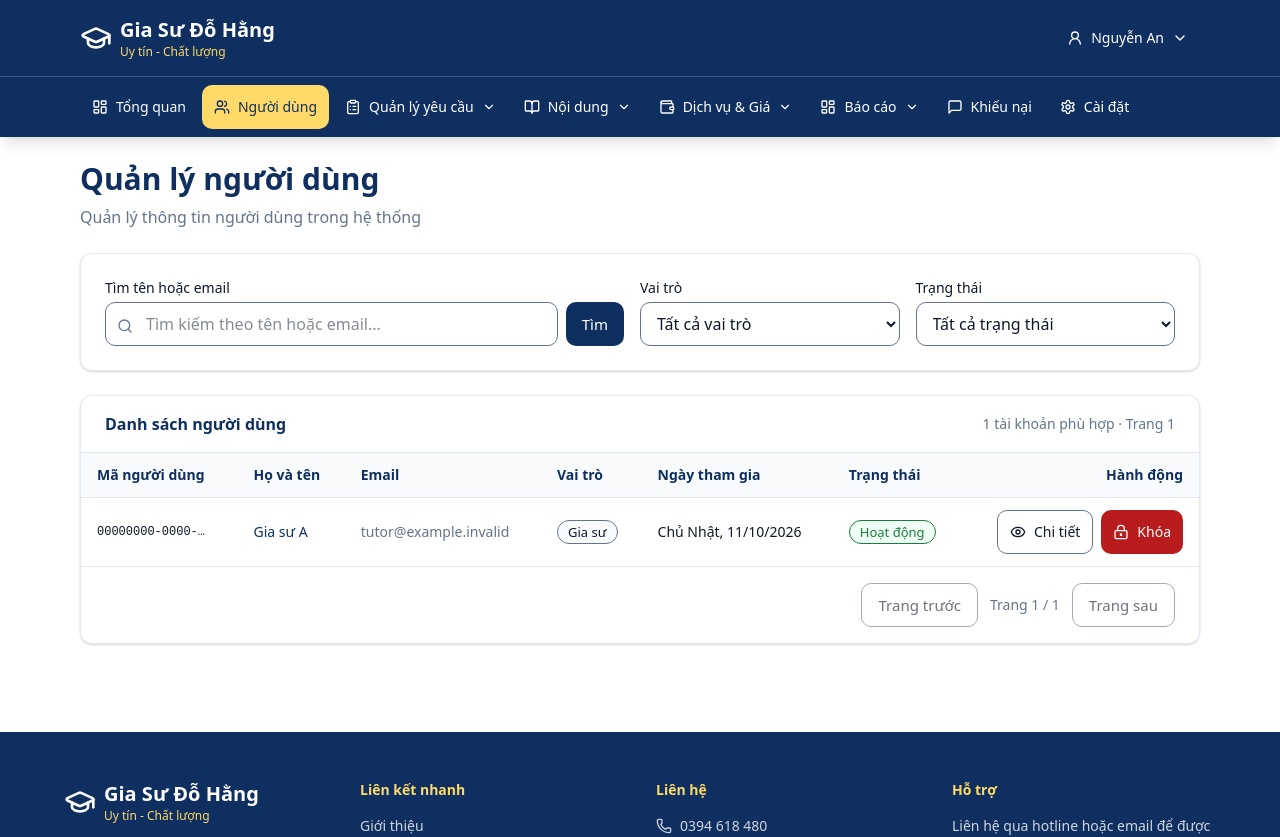
Test case: moderator user list › closes account details when the moderator changes the list filter
The image size is (1280, 837).
Expected: the text "Gia sư A" is shown, [238,498,345,566]
Step 1. Click the button "Chi tiết" → {"x": 1045, "y": 532}, box [997,510,1093,554]
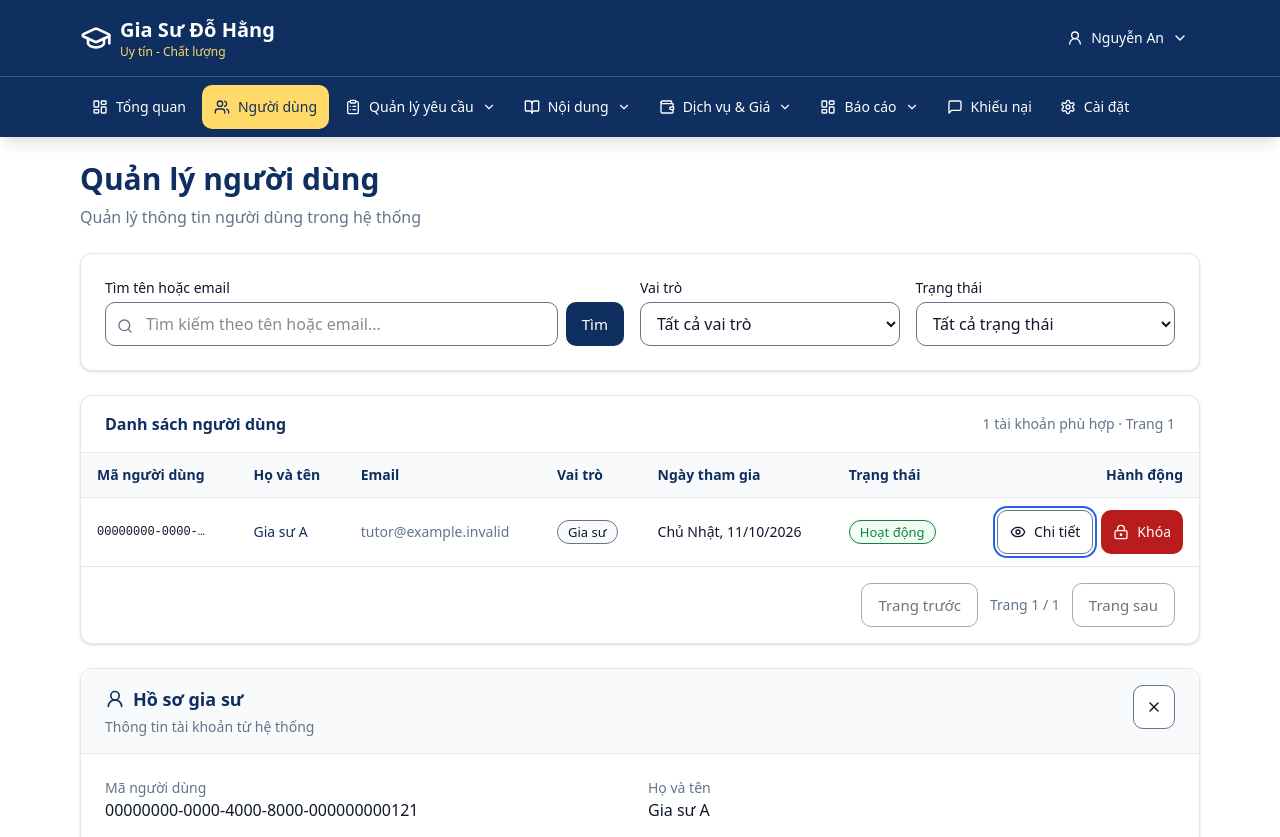
Now the heading "Hồ sơ gia sư" is shown, box [105,687,244,711]
Step 2. Select "Người học" in the dropdown labelled "Vai trò" → {"x": 770, "y": 324}, box [640,302,900,346]
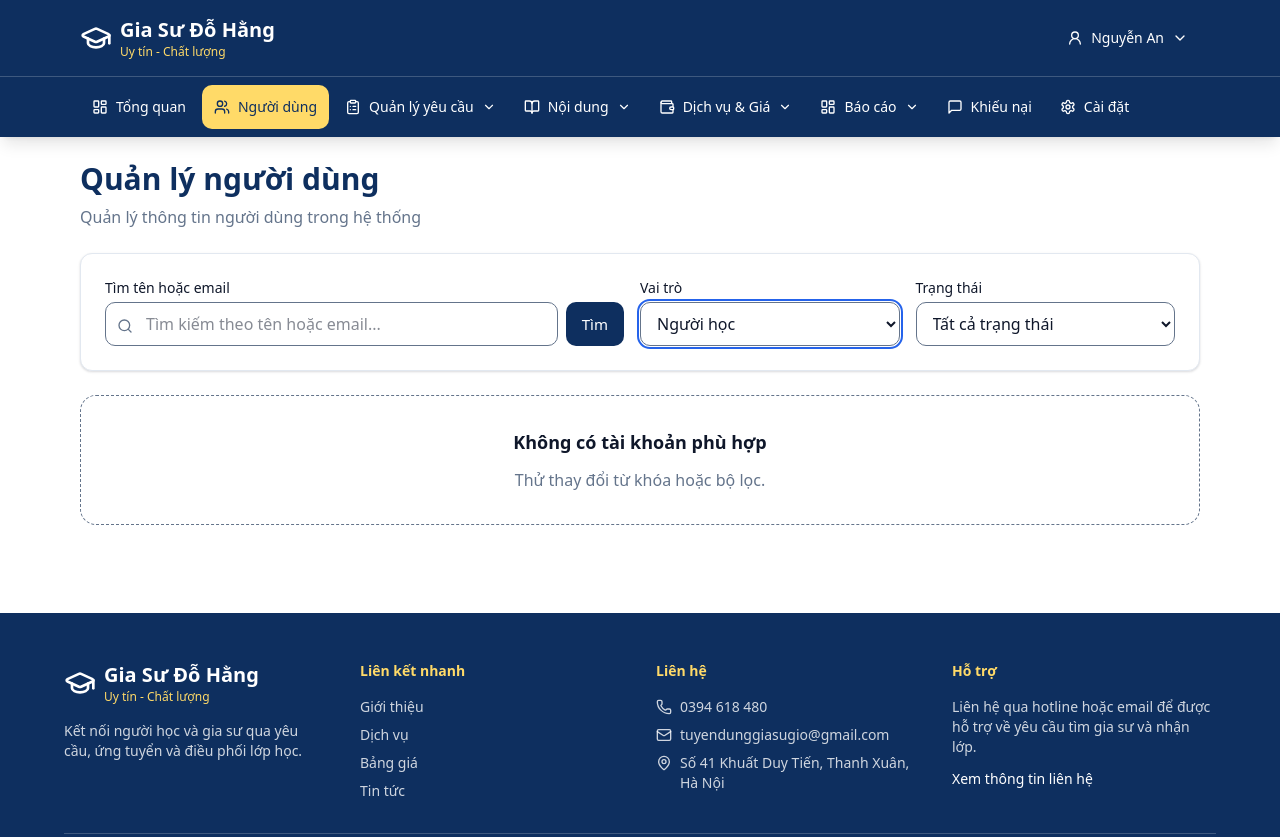
Now the heading "Hồ sơ gia sư" is gone
